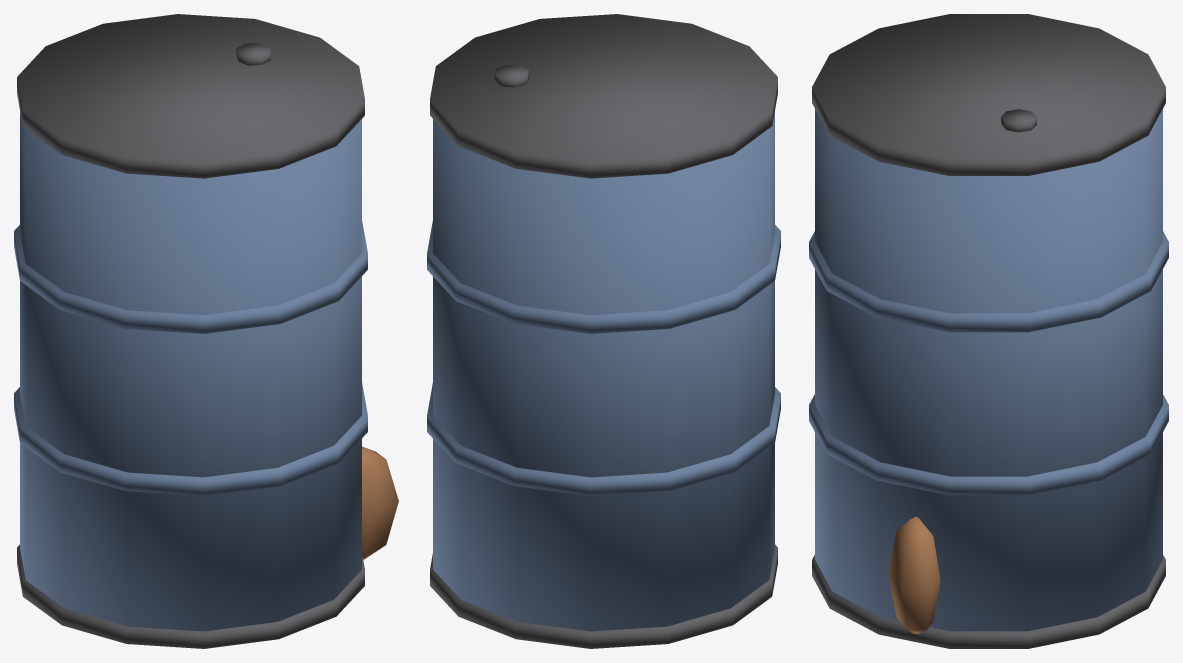
The model's file is v_drum_blue.glb.
3 views of the same model, side by side, from view 1: azimuth 30°, elevation 25°; view 2: azimuth 150°, elevation 25°; view 3: azimuth 270°, elevation 25° (orthographic).
Parts seen in each view (by area): view 1: Drum; view 2: Drum; view 3: Drum.
Boxes of the visible parts, x1,y1,x2,y2 form: Drum: [14, 14, 398, 648]; Drum: [427, 14, 780, 648]; Drum: [809, 14, 1168, 648].
Size of what is drawn, in the model's own units: 0.6118 by 0.915 by 0.6.
